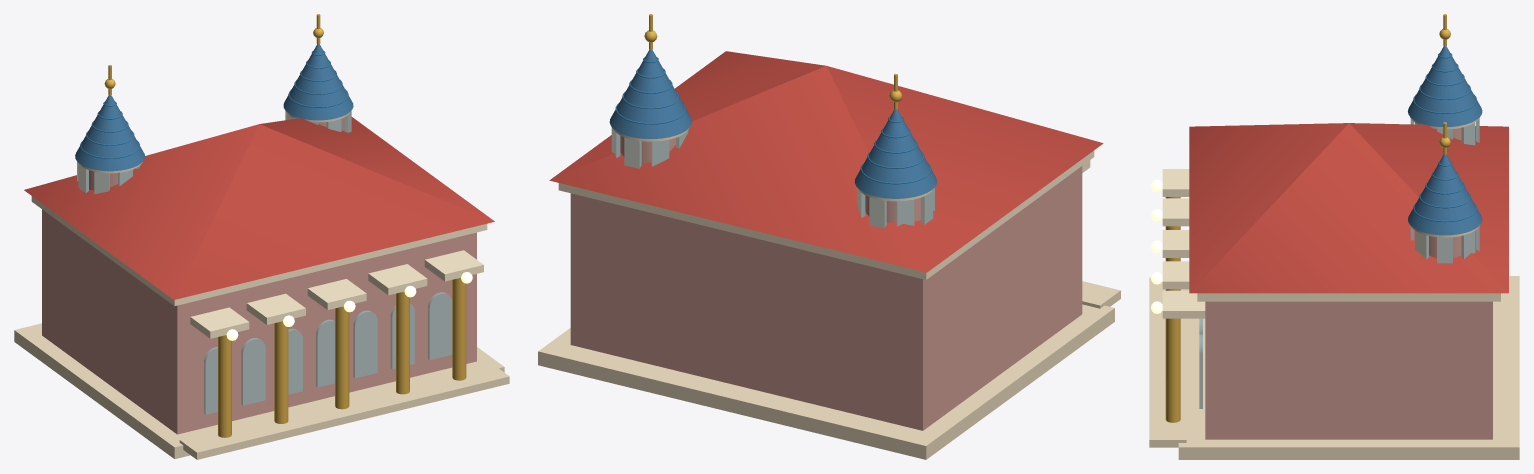
Rendered from fort-theater.glb.
3 renders of one model, left to right at view 1: azimuth 30°, elevation 25°; view 2: azimuth 150°, elevation 25°; view 3: azimuth 270°, elevation 25°, orthographic. The views are drawn at different scales.
Bounding box in the file's own units: 3.8 × 3.16 × 3.48.
